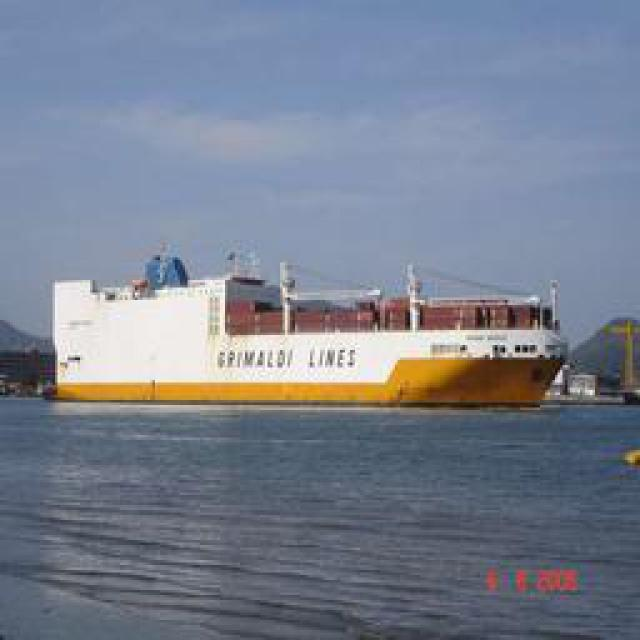Ship: (53, 240, 558, 410)
